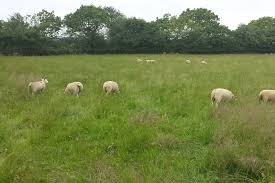sheep: (210, 87, 234, 106), (26, 78, 50, 96), (60, 81, 84, 97), (102, 80, 124, 97), (258, 89, 275, 106)
